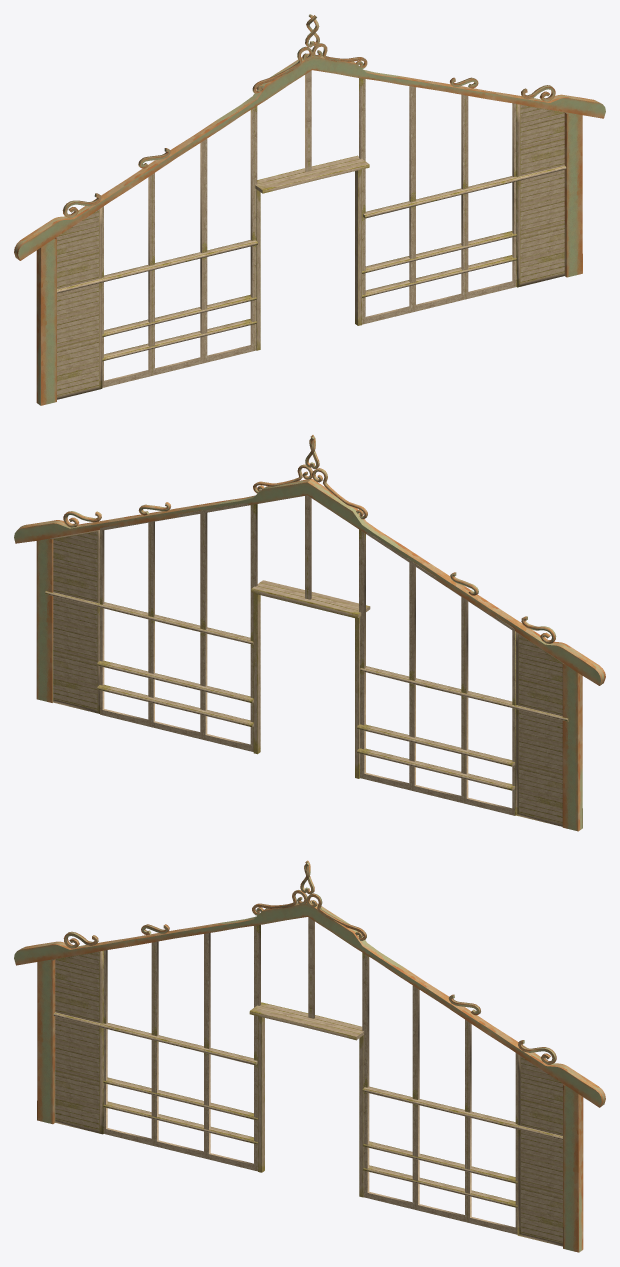
Rendered from greenhouse_front.fbx.
3 views of the same model, one above another, from view 1: azimuth 30°, elevation 25°; view 2: azimuth 150°, elevation 25°; view 3: azimuth 330°, elevation 25° (orthographic).
Parts seen in each view (by area): view 1: greenhouse_front; view 2: greenhouse_front; view 3: greenhouse_front.
Boxes of the visible parts, box(x1,y1,x2,y2) form: greenhouse_front: box(14, 14, 605, 405); greenhouse_front: box(14, 435, 605, 831); greenhouse_front: box(14, 860, 605, 1252).
Bounding box in the file's own units: 1123 × 595 × 40.5.
